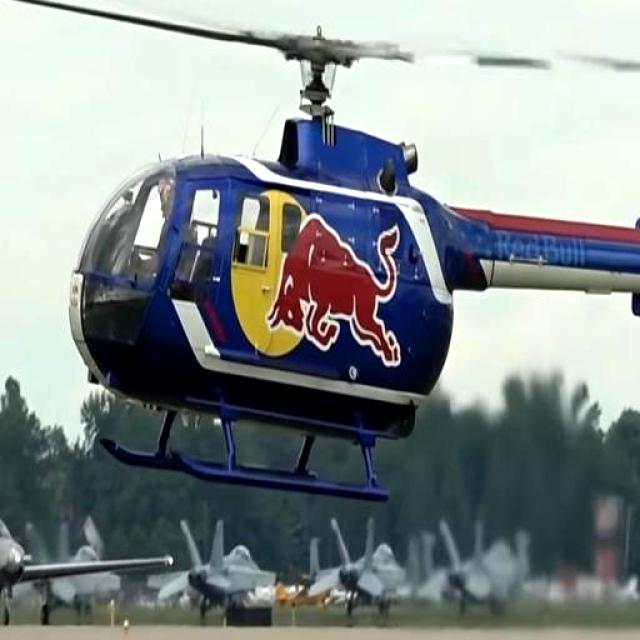drone: (39, 0, 640, 492)
